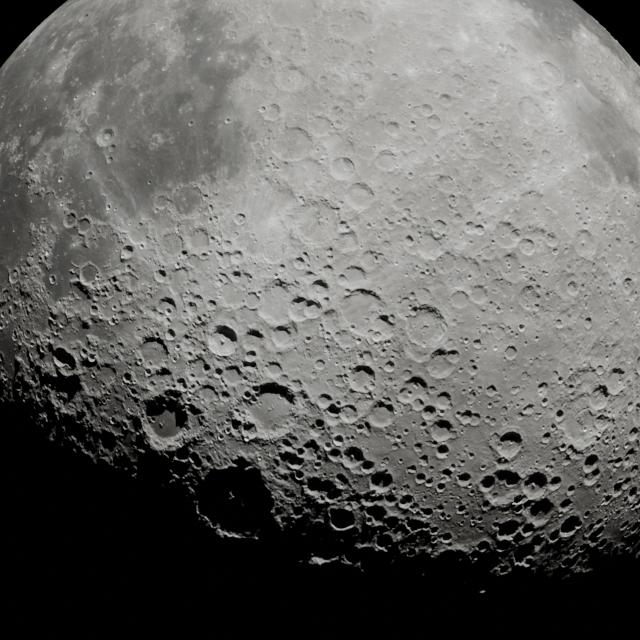crater: (194, 463, 284, 540), (233, 383, 301, 443), (137, 391, 199, 453), (520, 493, 562, 533), (488, 470, 526, 510), (204, 323, 241, 360), (330, 500, 364, 535), (491, 431, 529, 459), (554, 512, 588, 543), (138, 339, 171, 370), (367, 400, 401, 430), (520, 468, 552, 496), (351, 365, 380, 395), (338, 444, 368, 473), (578, 448, 604, 481), (368, 470, 398, 496), (364, 501, 392, 528), (431, 420, 459, 445), (271, 322, 295, 349), (244, 326, 270, 350), (305, 299, 326, 321), (312, 278, 331, 300), (399, 494, 419, 511), (458, 472, 474, 489)
